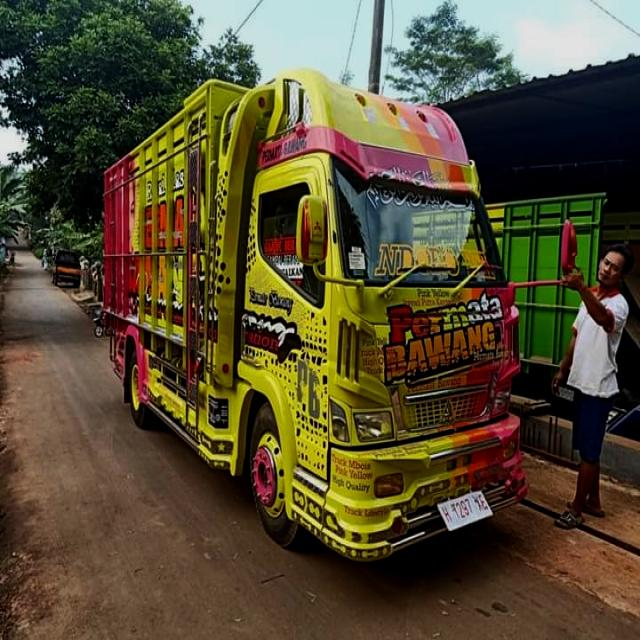truck: (99, 74, 581, 563)
